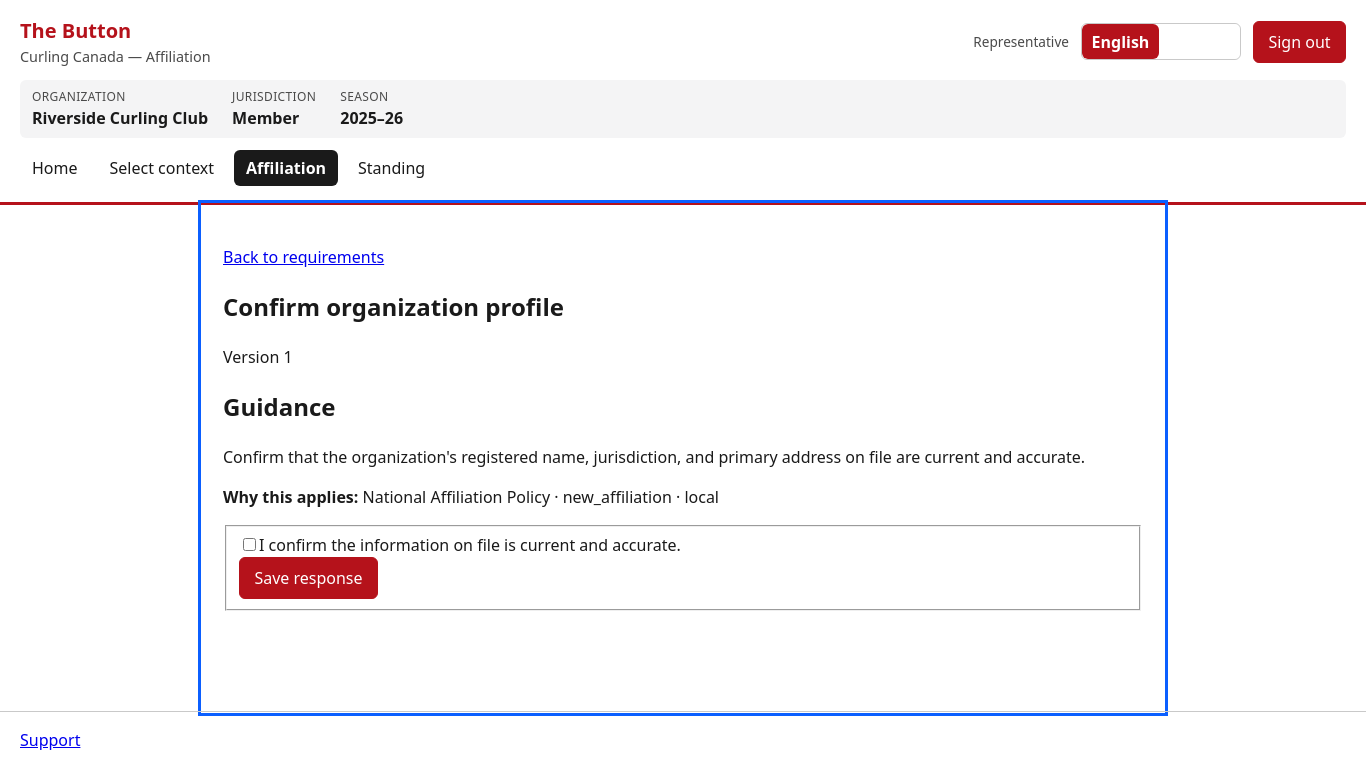
Button affiliation requirements experience › saves a response and reflects it as complete on return (persist + resume)
expect the heading "Confirm organization profile" is shown: met, box left=223, top=290, right=564, bottom=323
Step 1. Click the checkbox → (250, 544), box left=243, top=538, right=256, bottom=551
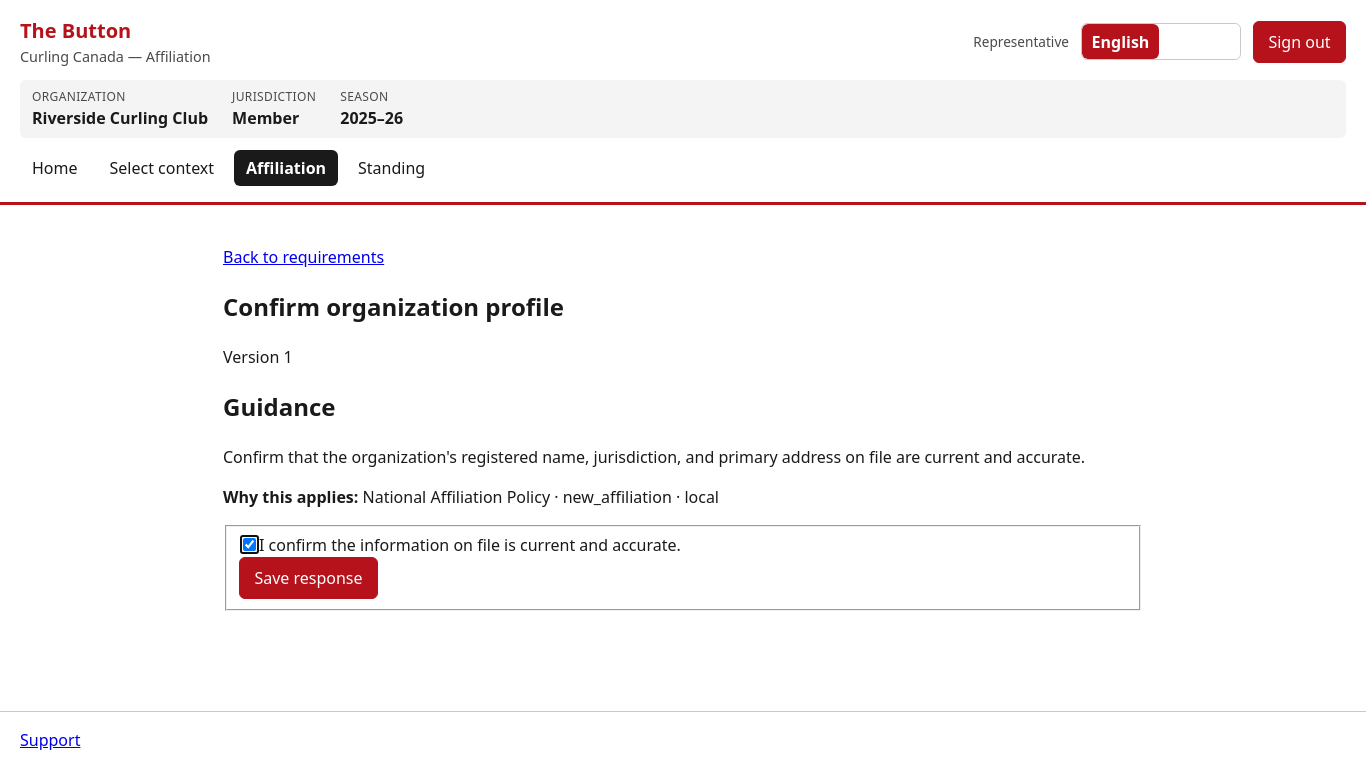
Step 2. Click the button "Save response" → (308, 578), box left=239, top=557, right=378, bottom=599
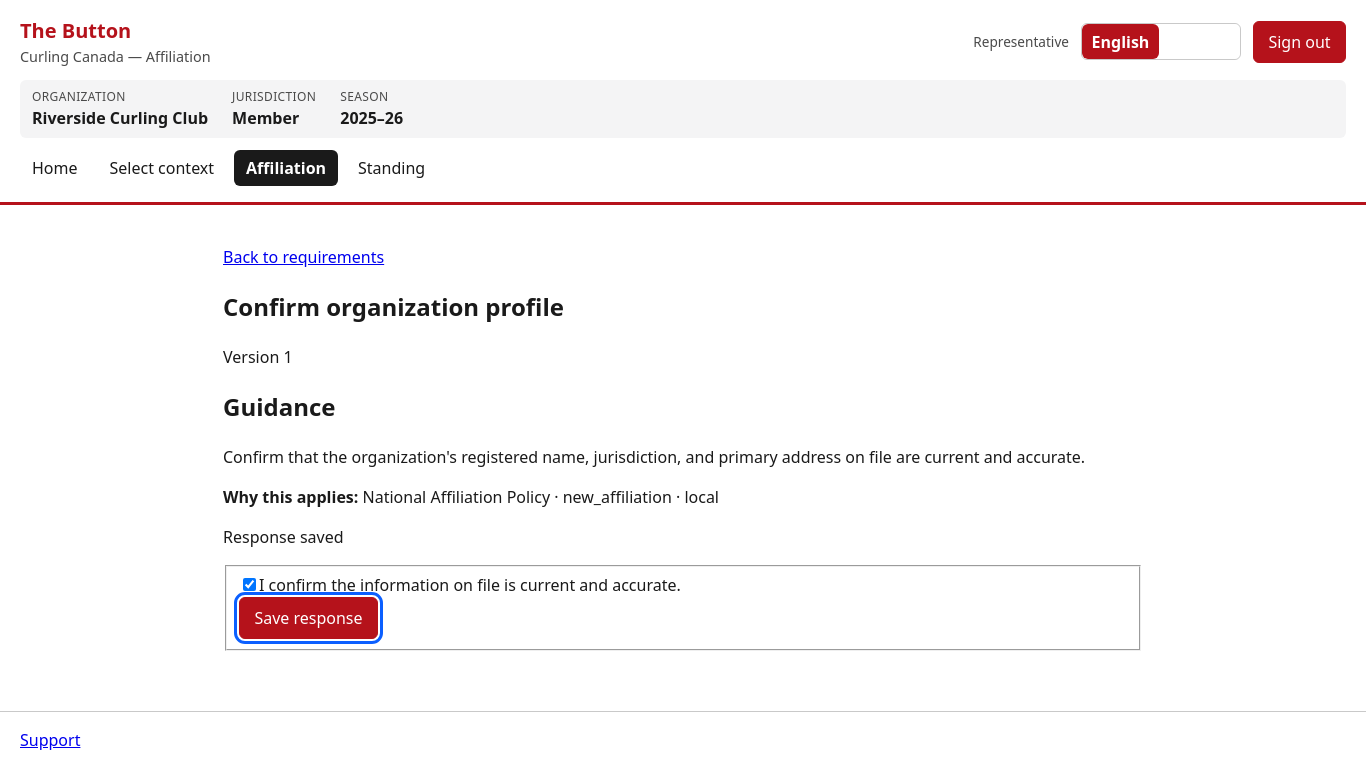
expect the text "Response saved" is shown: met, box left=223, top=526, right=344, bottom=548
// Return to the checklist: the requirement is now server-derived complete.
Step 3. Click the link "Back to requirements" → (304, 257), box left=223, top=246, right=384, bottom=268
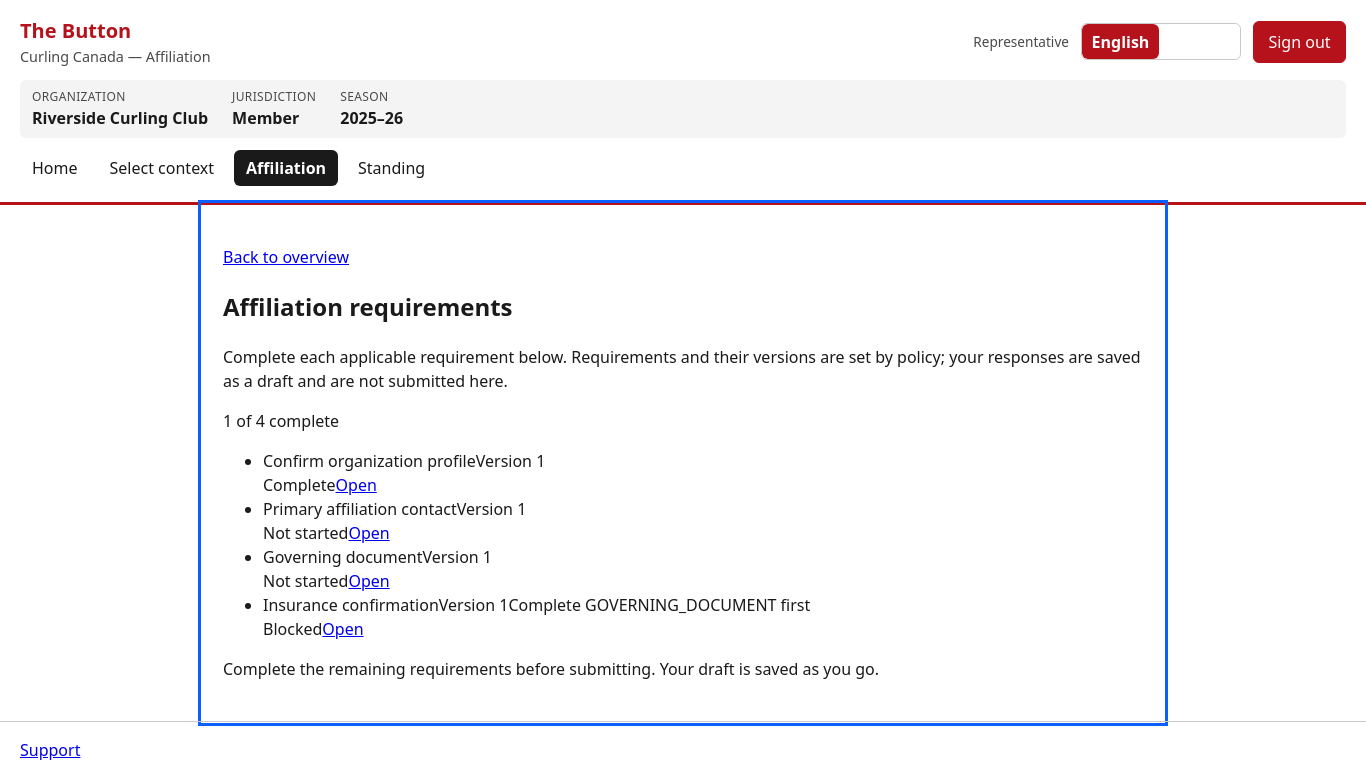
expect the heading "Affiliation requirements" is shown: met, box left=223, top=290, right=512, bottom=323
expect the text with test id "status-ORG_PROFILE_CONFIRMATION" reads "Complete": met, box left=263, top=474, right=336, bottom=496
expect the message with test id "requirements-progress" reads "1 of 4 complete": met, box left=223, top=410, right=339, bottom=432
